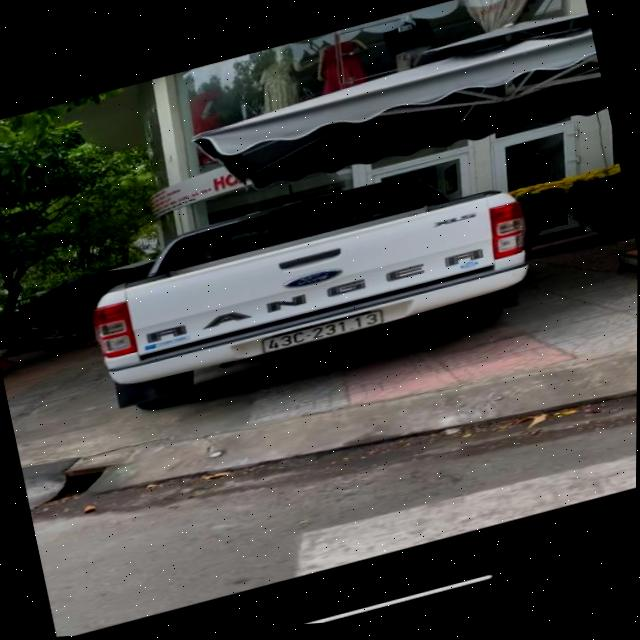car: (80, 121, 556, 441)
plate: (251, 291, 394, 369)
